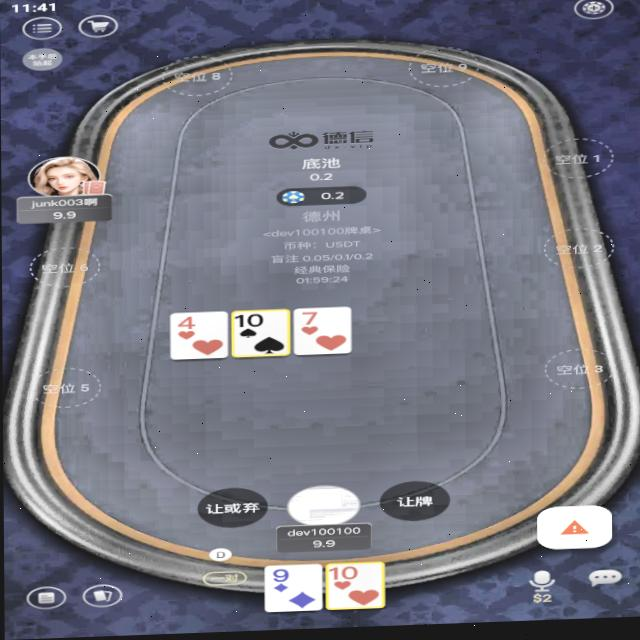10s: (233, 314, 266, 331)
4h: (327, 568, 359, 584), (174, 316, 200, 333)
7h: (297, 312, 324, 330)
9f: (267, 569, 293, 586)
